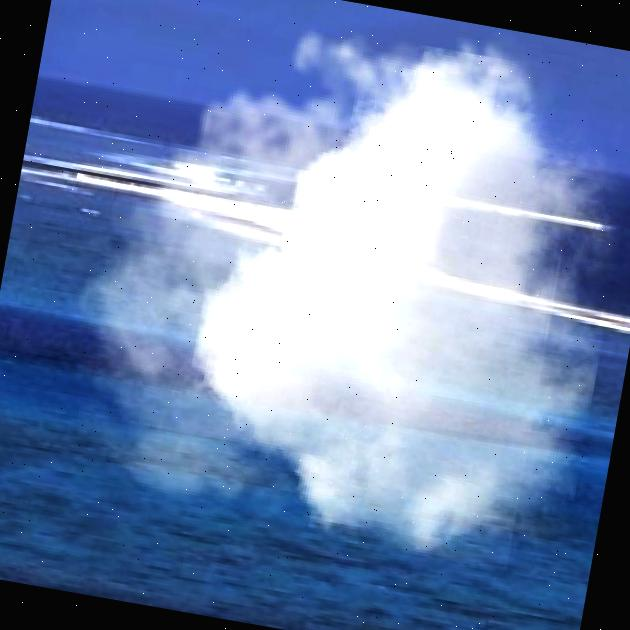smoke: (25, 0, 630, 580)
